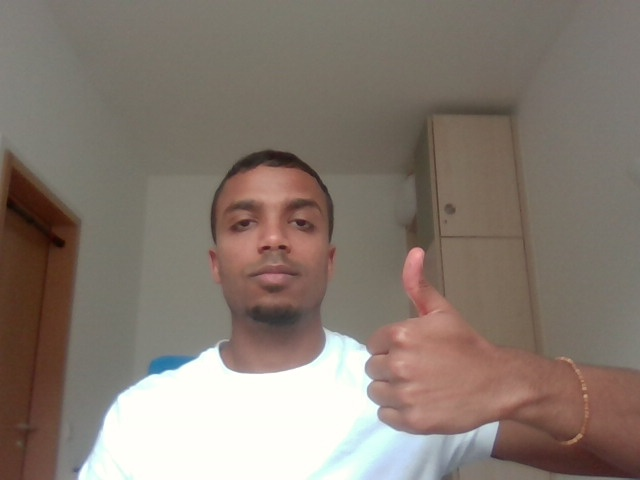yes: (358, 245, 533, 448)
